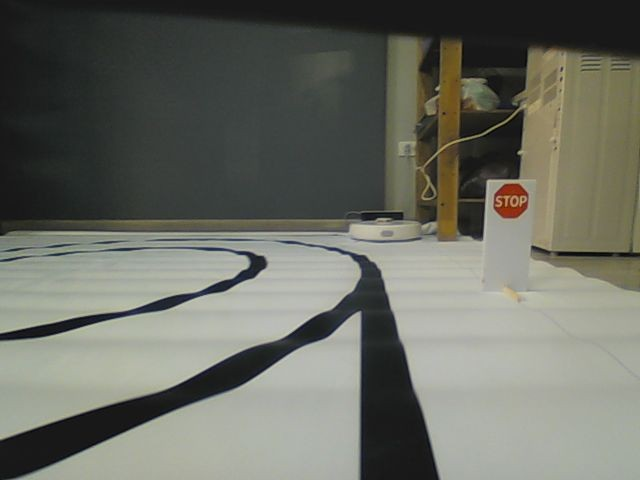Stop: (492, 181, 529, 218)
